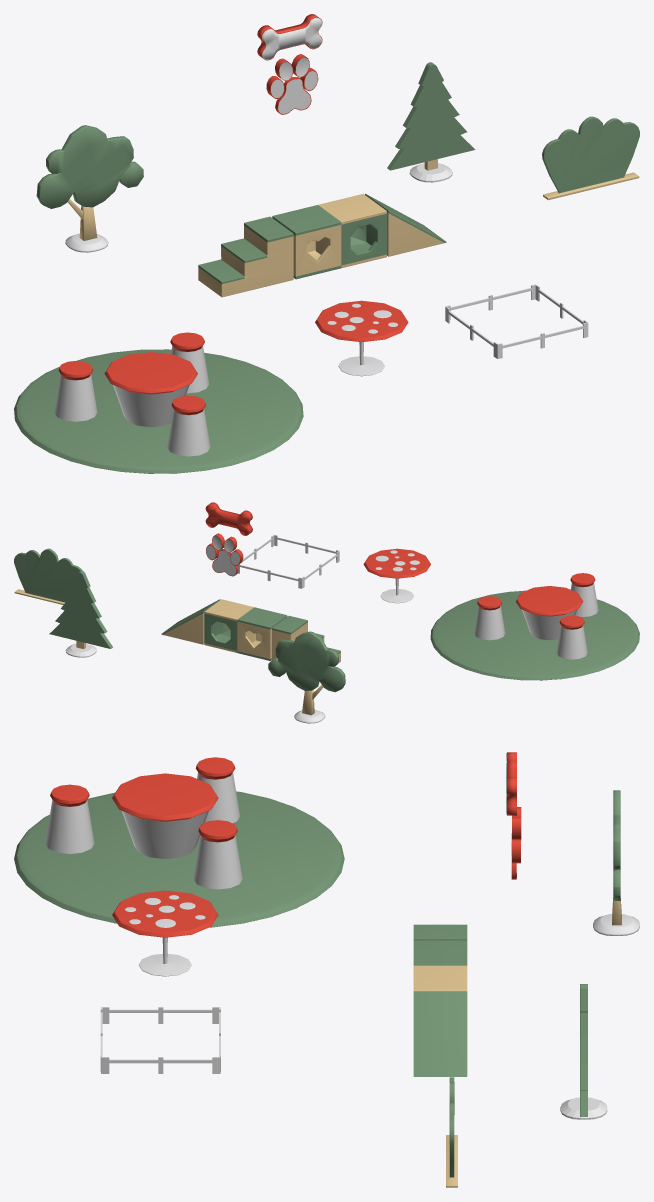
Rendered from Scene_Scene_Collection.fbx.
3 views of the same model, one above another, from view 1: azimuth 30°, elevation 25°; view 2: azimuth 150°, elevation 25°; view 3: azimuth 270°, elevation 25° (orthographic). The views are drawn at different scales.
Parts seen in each view (by area): view 1: deco_tables, deco_dogsteps, deco_tree2, deco_bush, deco_tree, deco_table, deco_paws, deco_bone; view 2: deco_tables, deco_dogsteps, deco_tree2, deco_tree, deco_bush, deco_table, deco_paws, deco_bone; view 3: deco_tables, deco_dogsteps, deco_table, deco_tree2, deco_tree, deco_bush, deco_bone, deco_paws.
Boxes of the visible parts, <box> form: deco_tables: <box>14,332,303,473</box>; deco_dogsteps: <box>198,193,446,297</box>; deco_tree2: <box>36,125,143,252</box>; deco_bush: <box>542,116,639,200</box>; deco_tree: <box>387,62,475,182</box>; deco_table: <box>315,300,408,376</box>; deco_paws: <box>266,54,318,114</box>; deco_bone: <box>257,14,322,60</box>; deco_tables: <box>430,573,639,680</box>; deco_dogsteps: <box>161,599,340,663</box>; deco_tree2: <box>268,631,345,723</box>; deco_tree: <box>49,570,112,657</box>; deco_bush: <box>14,548,82,604</box>; deco_table: <box>363,548,430,603</box>; deco_paws: <box>206,533,243,576</box>; deco_bone: <box>205,502,252,535</box>; deco_tables: <box>14,757,344,927</box>; deco_dogsteps: <box>413,924,467,1076</box>; deco_table: <box>112,890,218,976</box>; deco_tree2: <box>593,790,639,935</box>; deco_tree: <box>560,984,607,1119</box>; deco_bush: <box>446,1077,457,1187</box>; deco_bone: <box>506,752,516,815</box>; deco_paws: <box>511,807,521,879</box>.
Bounding box in the file's own units: 1589 × 1042 × 456.
